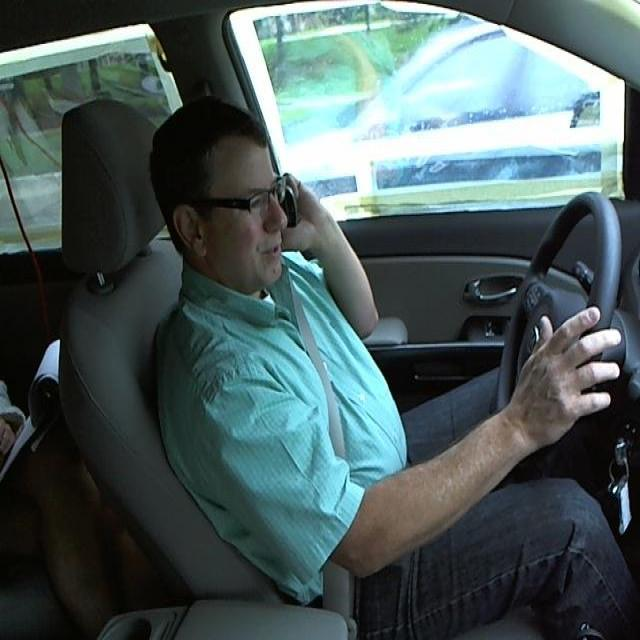using_phone: (85, 96, 382, 318)
